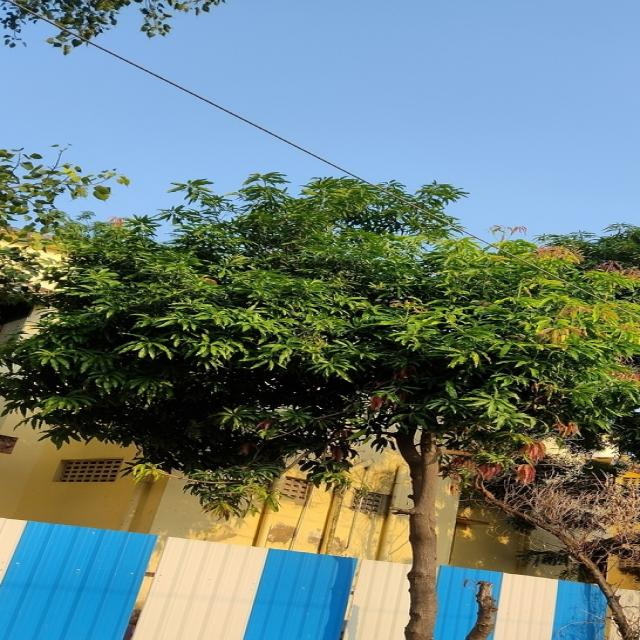Mango-Tree: (57, 161, 640, 640)
